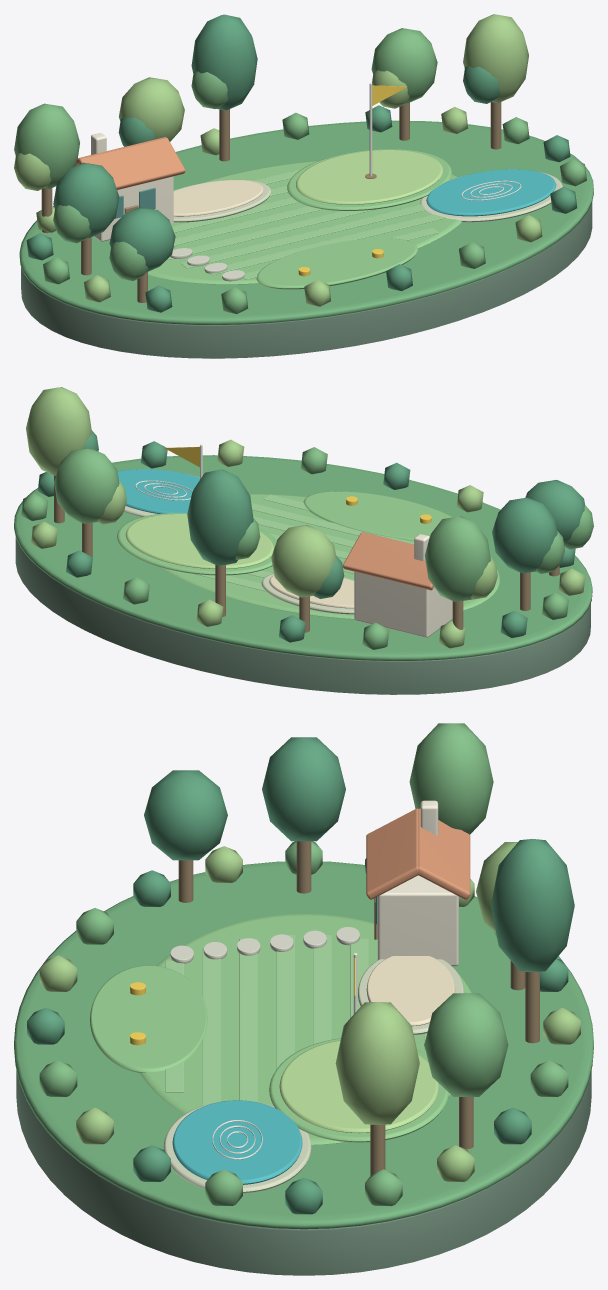
Rendered from lobby.glb.
3 views of the same model, one above another, from view 1: azimuth 30°, elevation 25°; view 2: azimuth 150°, elevation 25°; view 3: azimuth 270°, elevation 25° (orthographic). The views are drawn at different scales.
Visible parts, largest first — view 1: Island turf, Island base, Fairway, Putting green, Character tee, Pond water, Tree crown.003, Tree crown.005, Tree crown.001, Tree crown.004, Tree crown, Pitched roof (+37 smaller); view 2: Island turf, Island base, Tree crown.003, Clubhouse, Character tee, Tree crown.001, Tree crown.005, Fairway, Tree crown, Tree crown.004, Putting green, Tree crown.002 (+32 smaller); view 3: Island turf, Island base, Fairway, Character tee, Tree crown.003, Pond water, Tree crown.005, Tree crown, Tree crown.004, Tree crown.001, Putting green, Clubhouse (+34 smaller).
Boxes of the visible parts, x1=… form: Island turf: x1=19, y1=120, x2=593, y2=325; Island base: x1=21, y1=202, x2=592, y2=358; Fairway: x1=148, y1=160, x2=461, y2=284; Putting green: x1=296, y1=150, x2=443, y2=204; Character tee: x1=256, y1=238, x2=417, y2=289; Pond water: x1=426, y1=169, x2=556, y2=216; Tree crown.003: x1=191, y1=14, x2=257, y2=110; Tree crown.005: x1=463, y1=14, x2=528, y2=102; Tree crown.001: x1=14, y1=103, x2=79, y2=188; Tree crown.004: x1=371, y1=28, x2=437, y2=103; Tree crown: x1=53, y1=162, x2=119, y2=237; Pitched roof: x1=79, y1=137, x2=185, y2=189; Island turf: x1=14, y1=455, x2=592, y2=661; Island base: x1=15, y1=537, x2=590, y2=694; Tree crown.003: x1=187, y1=469, x2=253, y2=565; Clubhouse: x1=354, y1=572, x2=452, y2=637; Character tee: x1=303, y1=491, x2=452, y2=540; Tree crown.001: x1=424, y1=516, x2=490, y2=601; Tree crown.005: x1=26, y1=387, x2=92, y2=475; Fairway: x1=159, y1=493, x2=499, y2=619; Tree crown: x1=492, y1=497, x2=557, y2=573; Tree crown.004: x1=54, y1=448, x2=119, y2=523; Putting green: x1=125, y1=514, x2=274, y2=568; Tree crown.002: x1=271, y1=525, x2=336, y2=597; Island turf: x1=14, y1=861, x2=593, y2=1229; Island base: x1=16, y1=1070, x2=591, y2=1275; Fairway: x1=140, y1=914, x2=471, y2=1145; Character tee: x1=90, y1=965, x2=207, y2=1073; Tree crown.003: x1=490, y1=839, x2=574, y2=971; Pond water: x1=172, y1=1100, x2=302, y2=1184; Tree crown.005: x1=335, y1=1002, x2=419, y2=1124; Tree crown: x1=262, y1=737, x2=345, y2=841; Tree crown.004: x1=424, y1=993, x2=508, y2=1096; Tree crown.001: x1=409, y1=723, x2=493, y2=834; Putting green: x1=279, y1=1040, x2=438, y2=1133; Clubhouse: x1=377, y1=875, x2=458, y2=966.
Bounding box in the file's own units: 11.66 × 3.9 × 7.86.
